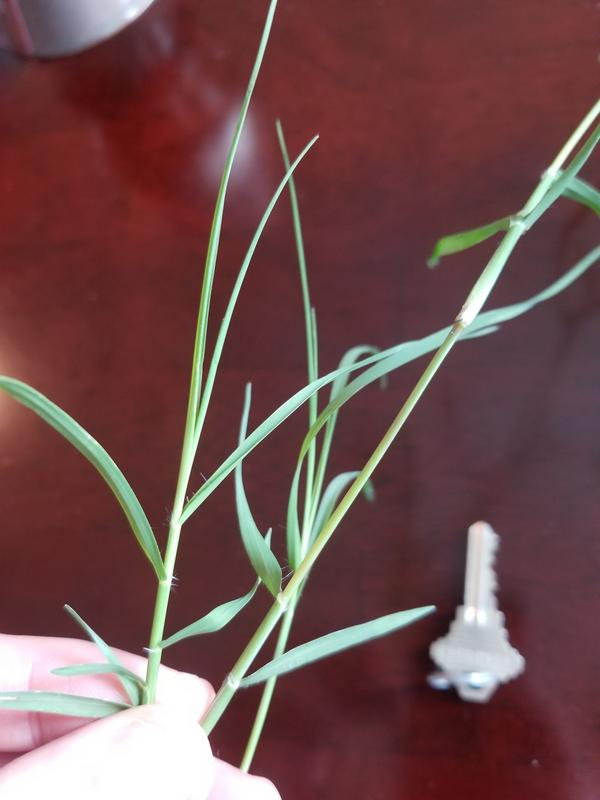crabgrass: (26, 110, 430, 755)
